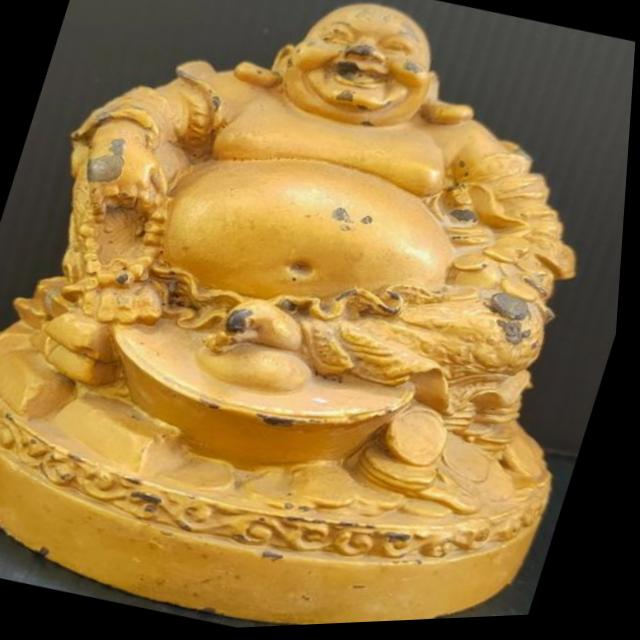Smiling Buddha: (44, 0, 560, 501)
